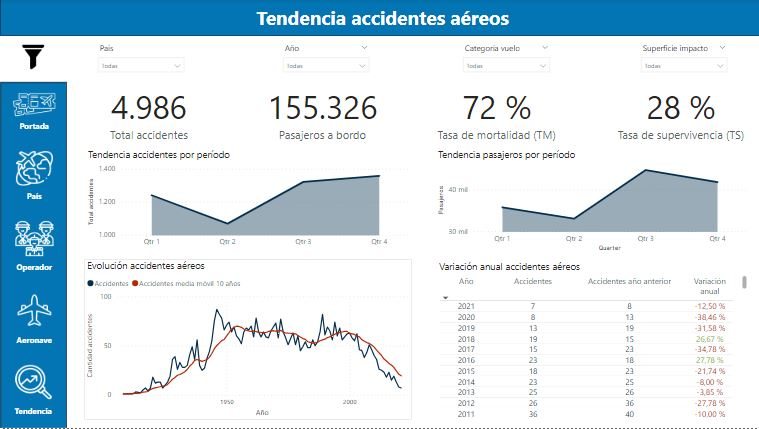

Layout of this report page (visuals, bound fields, positions):
{"tool":"powerbi","page":{"name":"Tendencia","canvas":[1280,720],"ordinal":4},"visuals":[{"type":"shape","box":[0,0,1280,61.8],"z":0},{"type":"image","box":[16.4,366.8,80.9,69.3],"z":0,"group":"g3"},{"type":"textbox","box":[25,3,1233,55],"z":1000},{"type":"textbox","box":[16.4,436.2,80.9,28.8],"z":1000,"group":"g3"},{"type":"image","box":[31,68.2,51.4,55.8],"z":2000},{"type":"image","box":[16.4,139.1,80.9,76.2],"z":2001,"group":"g1"},{"type":"image","box":[16.4,250.7,80.9,67.7],"z":2002,"group":"g2"},{"type":"image","box":[16.4,484.8,80.9,74.1],"z":2003,"group":"g4"},{"type":"image","box":[15.5,607.3,80.9,69.6],"z":2005,"group":"g5"},{"type":"textbox","box":[16.4,318.5,80.9,28.5],"z":2007,"group":"g2"},{"type":"textbox","box":[16.4,559,80.9,28.6],"z":2009,"group":"g4"},{"type":"textbox","box":[15.5,676.9,80.9,28.5],"z":2010,"group":"g5"},{"type":"textbox","box":[16.4,199.8,80.9,31.3],"z":2011,"group":"g1"},{"type":"shape","box":[0,139,112,581],"z":3000},{"type":"group","id":"g1","title":"Group 1","box":[16.4,139.1,80.9,91.8],"z":4000},{"type":"group","id":"g2","title":"Group 2","box":[16.4,250.7,80.9,96.4],"z":5000},{"type":"group","id":"g3","title":"Group 3","box":[16.4,366.8,80.9,98.2],"z":6000},{"type":"group","id":"g4","title":"Group 4","box":[16.4,484.8,80.9,102.7],"z":7000},{"type":"group","id":"g5","title":"Group 5","box":[15.5,607.3,80.9,98.2],"z":8000},{"type":"slicer","fields":{"Values":["calendar.Year"]},"box":[464.1,68.2,164.7,55.8],"z":9000},{"type":"slicer","fields":{"Values":["categories.category"]},"box":[766.9,68.2,165.6,55.8],"z":10000},{"type":"slicer","fields":{"Values":["surfaces.surface"]},"box":[1064.5,68.2,164.7,55.8],"z":11000},{"type":"slicer","fields":{"Values":["countries.country"]},"box":[154.1,68.2,164.7,55.8],"z":12000},{"type":"lineChart","title":"Evolución accidentes aéreos","fields":{"Y":["metrics.total_accidents","metrics.total_accidents rolling average"],"Category":["calendar.Date.Variation.Date Hierarchy.Year"]},"box":[141.7,436.2,549.2,270],"z":13000},{"type":"stackedAreaChart","title":"Tendencia accidentes por período","fields":{"Category":["calendar.Date.Variation.Date Hierarchy.Quarter","calendar.Date.Variation.Date Hierarchy.Month","calendar.Date.Variation.Date Hierarchy.Day"],"Y":["metrics.total_accidents"]},"box":[141.8,250.7,549.6,175.7],"z":14000},{"type":"card","fields":{"Values":["metrics.total_accidents"]},"box":[141.8,138.7,214.7,104.8],"z":15000},{"type":"card","fields":{"Values":["metrics.total_aboard"]},"box":[443.1,138.7,196.2,104.8],"z":16000},{"type":"card","fields":{"Values":["metrics.mortality_rate"]},"box":[725.9,138.7,213.7,104.8],"z":17000},{"type":"card","fields":{"Values":["metrics.survival_rate"]},"box":[1026.3,138.7,231.1,104.8],"z":18000},{"type":"stackedAreaChart","title":"Tendencia pasajeros por período","fields":{"Category":["calendar.Date.Variation.Date Hierarchy.Quarter","calendar.Date.Variation.Date Hierarchy.Month","calendar.Date.Variation.Date Hierarchy.Day"],"Y":["metrics.total_aboard"]},"box":[730.4,250.7,527,178.7],"z":19000},{"type":"tableEx","title":"Variación anual accidentes aéreos","fields":{"Values":["calendar.Year","metrics.total_accidents","metrics.total_accidents_last_year","metrics.total_accidents YoY%"]},"box":[730.8,437.3,526.6,268.9],"z":21000}]}

Visuals, with their boxes on the page's 1280x720 design canvas (x1, y1, x2, y2). These are canvas units, not pixel positions in the 759x429 screenshot, which may show the page scaled, cropped or inside an application window:
shape: [left=0, top=0, right=1280, bottom=62]
image: [left=16, top=367, right=97, bottom=436]
textbox: [left=25, top=3, right=1258, bottom=58]
textbox: [left=16, top=436, right=97, bottom=465]
image: [left=31, top=68, right=82, bottom=124]
image: [left=16, top=139, right=97, bottom=215]
image: [left=16, top=251, right=97, bottom=318]
image: [left=16, top=485, right=97, bottom=559]
image: [left=16, top=607, right=96, bottom=677]
textbox: [left=16, top=318, right=97, bottom=347]
textbox: [left=16, top=559, right=97, bottom=588]
textbox: [left=16, top=677, right=96, bottom=705]
textbox: [left=16, top=200, right=97, bottom=231]
shape: [left=0, top=139, right=112, bottom=720]
"Group 1" group: [left=16, top=139, right=97, bottom=231]
"Group 2" group: [left=16, top=251, right=97, bottom=347]
"Group 3" group: [left=16, top=367, right=97, bottom=465]
"Group 4" group: [left=16, top=485, right=97, bottom=588]
"Group 5" group: [left=16, top=607, right=96, bottom=706]
slicer - calendar.Year: [left=464, top=68, right=629, bottom=124]
slicer - categories.category: [left=767, top=68, right=932, bottom=124]
slicer - surfaces.surface: [left=1064, top=68, right=1229, bottom=124]
slicer - countries.country: [left=154, top=68, right=319, bottom=124]
"Evolución accidentes aéreos" lineChart: [left=142, top=436, right=691, bottom=706]
"Tendencia accidentes por período" stackedAreaChart: [left=142, top=251, right=691, bottom=426]
card - metrics.total_accidents: [left=142, top=139, right=356, bottom=244]
card - metrics.total_aboard: [left=443, top=139, right=639, bottom=244]
card - metrics.mortality_rate: [left=726, top=139, right=940, bottom=244]
card - metrics.survival_rate: [left=1026, top=139, right=1257, bottom=244]
"Tendencia pasajeros por período" stackedAreaChart: [left=730, top=251, right=1257, bottom=429]
"Variación anual accidentes aéreos" tableEx: [left=731, top=437, right=1257, bottom=706]
